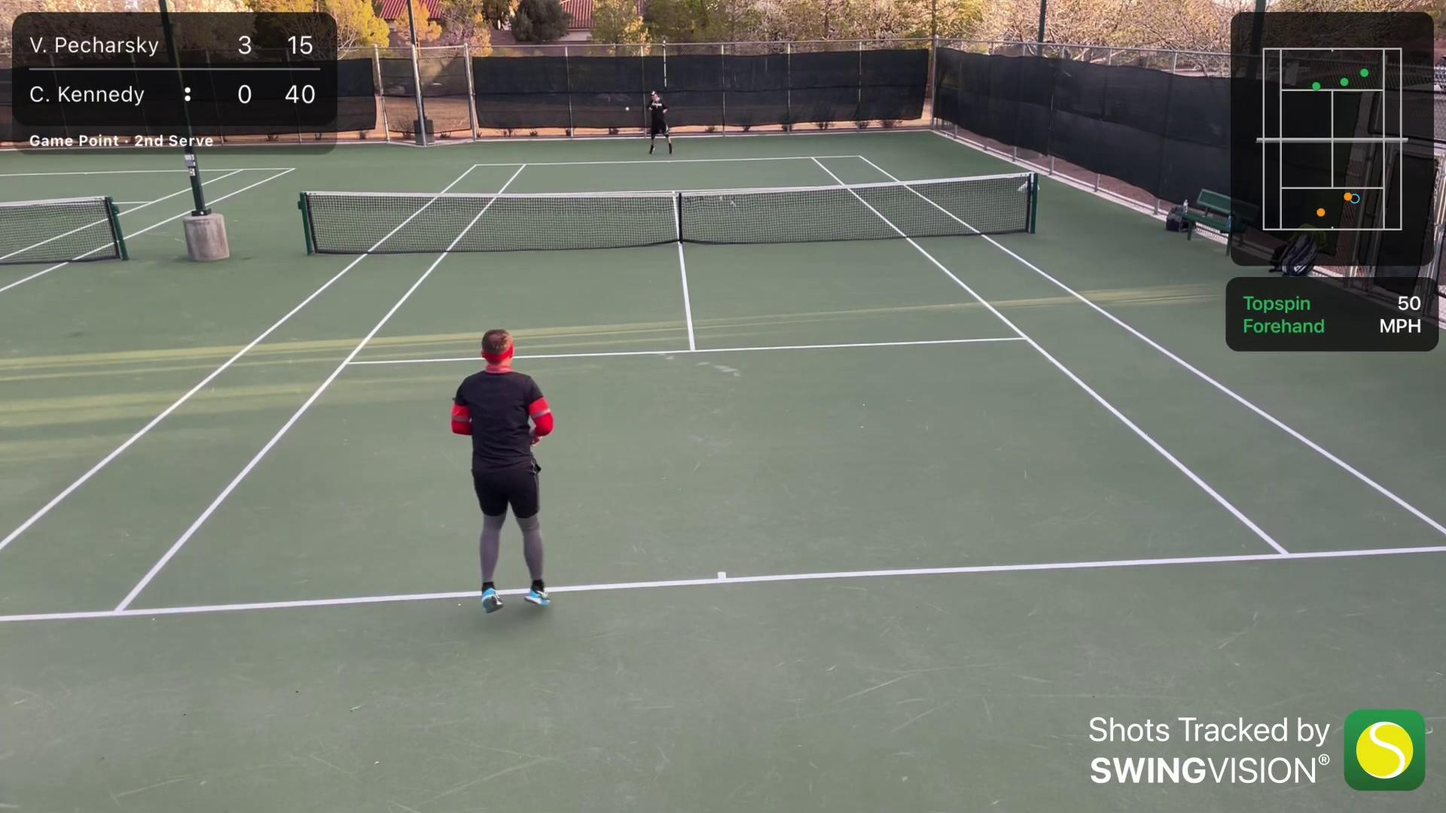ball: (624, 107, 630, 110)
